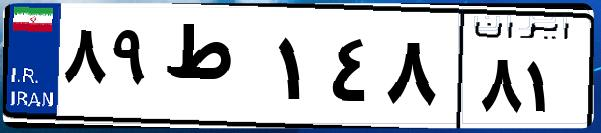1: (270, 28, 330, 110), (525, 38, 570, 115)
4: (330, 28, 385, 110)
8: (385, 28, 445, 110), (57, 26, 110, 100), (475, 38, 525, 113)
9: (110, 28, 158, 98)
ط: (158, 20, 270, 120)
